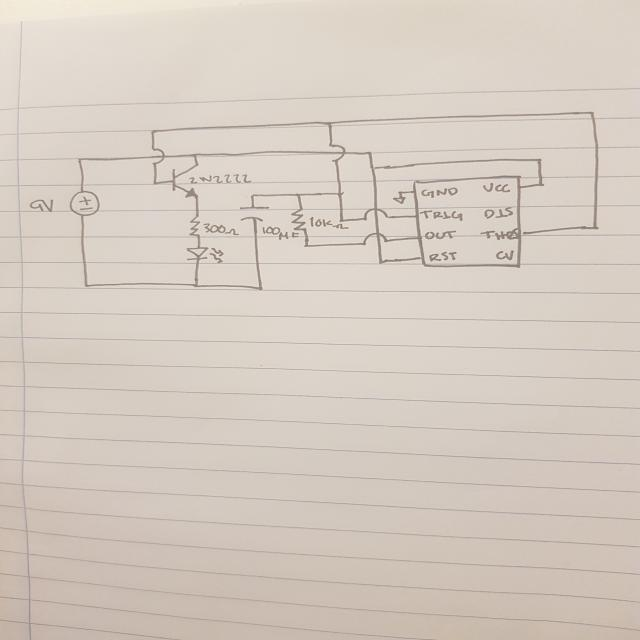capacitor: (238, 204, 270, 224)
crossover: (327, 142, 347, 164), (362, 232, 390, 247), (148, 146, 167, 167), (362, 208, 388, 223)
diode: (185, 247, 227, 264)
ground: (391, 196, 408, 205)
junction: (74, 155, 86, 164), (586, 109, 598, 118), (191, 280, 201, 290), (255, 283, 265, 293), (376, 257, 386, 266), (82, 281, 92, 289), (148, 127, 158, 135), (534, 156, 544, 164), (363, 150, 374, 157), (151, 179, 160, 187), (536, 180, 545, 188), (301, 242, 311, 249), (324, 120, 334, 127), (590, 223, 600, 230), (248, 192, 256, 200), (335, 190, 344, 197), (337, 216, 346, 223), (369, 165, 378, 172), (190, 152, 200, 158), (296, 191, 302, 198), (397, 190, 404, 195)
resistor: (288, 205, 310, 234), (186, 214, 207, 239)
source: (67, 190, 102, 217)
text: (203, 220, 240, 238), (187, 173, 252, 183), (262, 225, 299, 240), (419, 210, 463, 222), (479, 228, 519, 241), (420, 187, 458, 199), (28, 197, 55, 212), (483, 207, 514, 220), (427, 251, 457, 262), (481, 182, 511, 193), (424, 230, 456, 240), (308, 216, 332, 229), (494, 250, 514, 261)
transistor: (171, 165, 200, 199)
